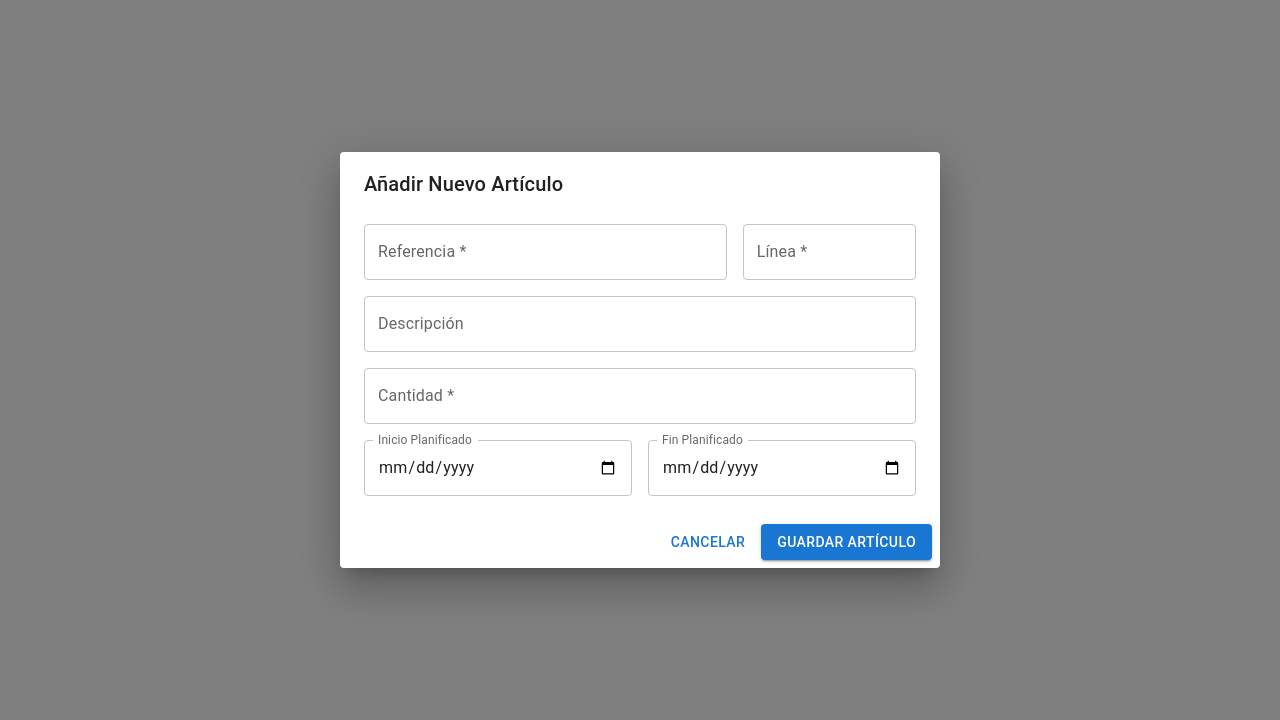
it: Componente: AdminAddArticuloDialog › Validación: error si linea inválida
Type "REF-001" into the field labelled "Referencia *" at (545, 252), box x1=364 y1=224 x2=727 y2=280
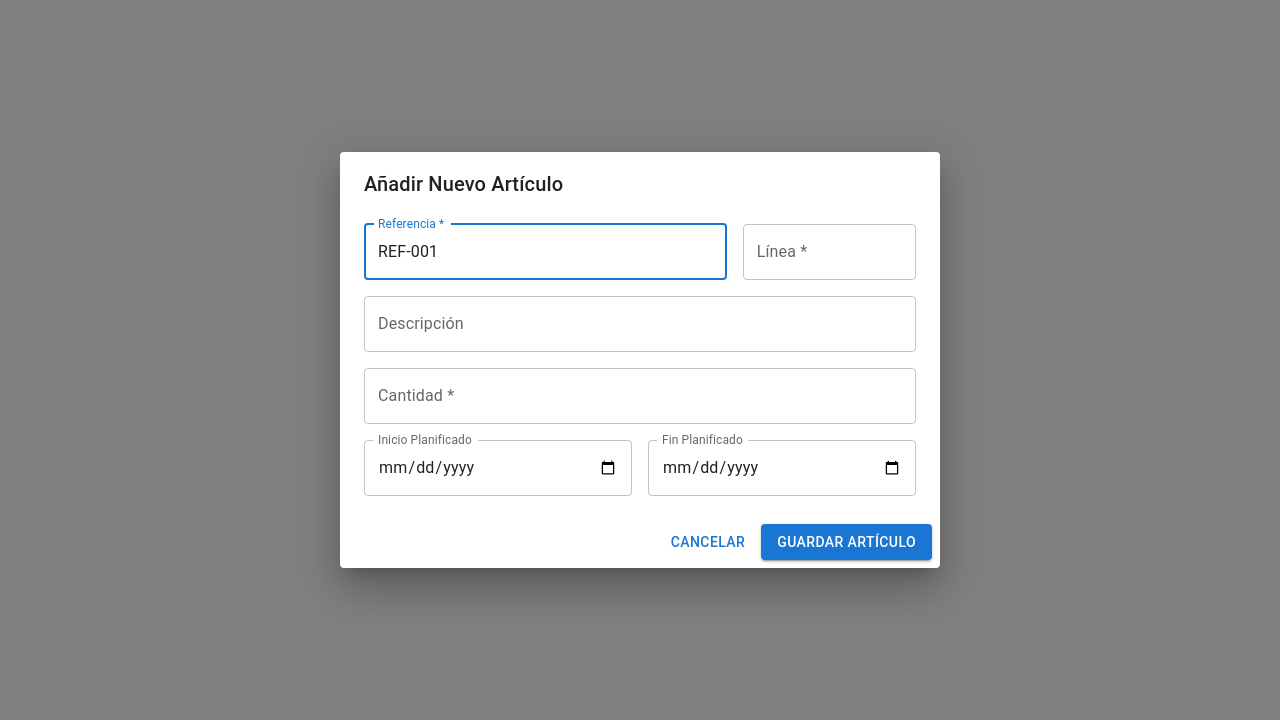
Type "0" into the field labelled "Línea *" at (829, 252), box x1=743 y1=224 x2=916 y2=280
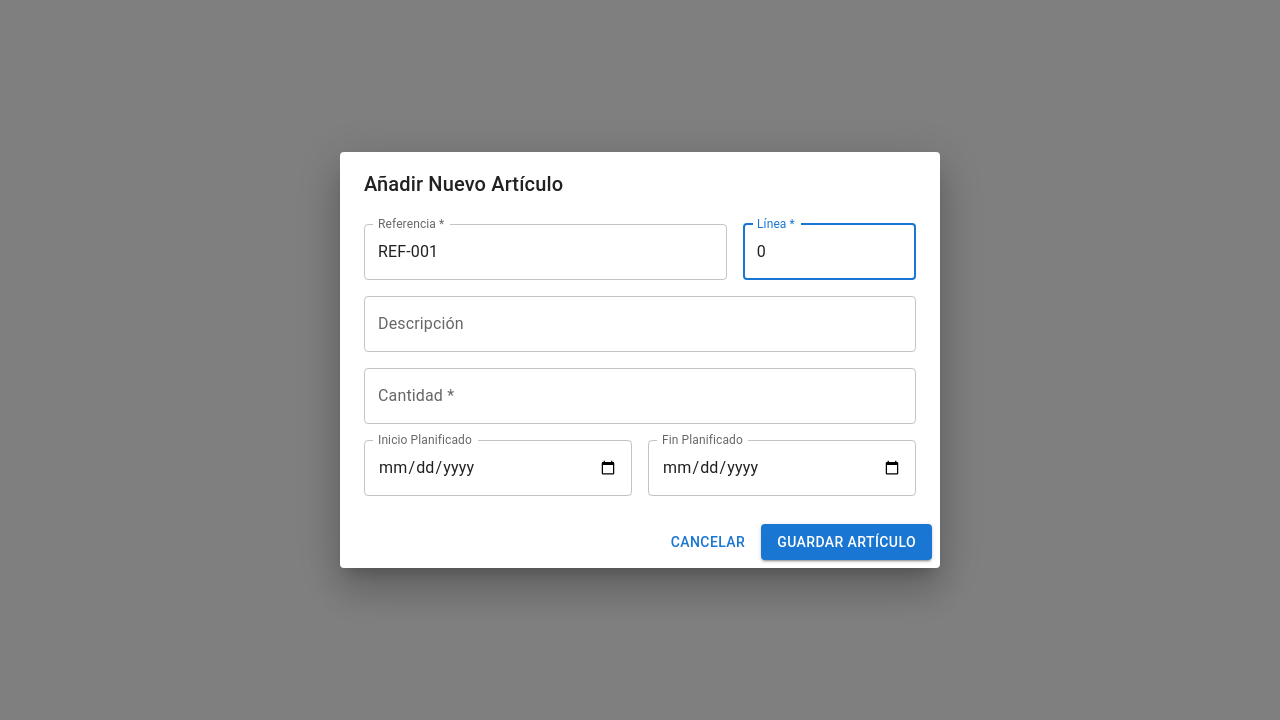
Press Tab
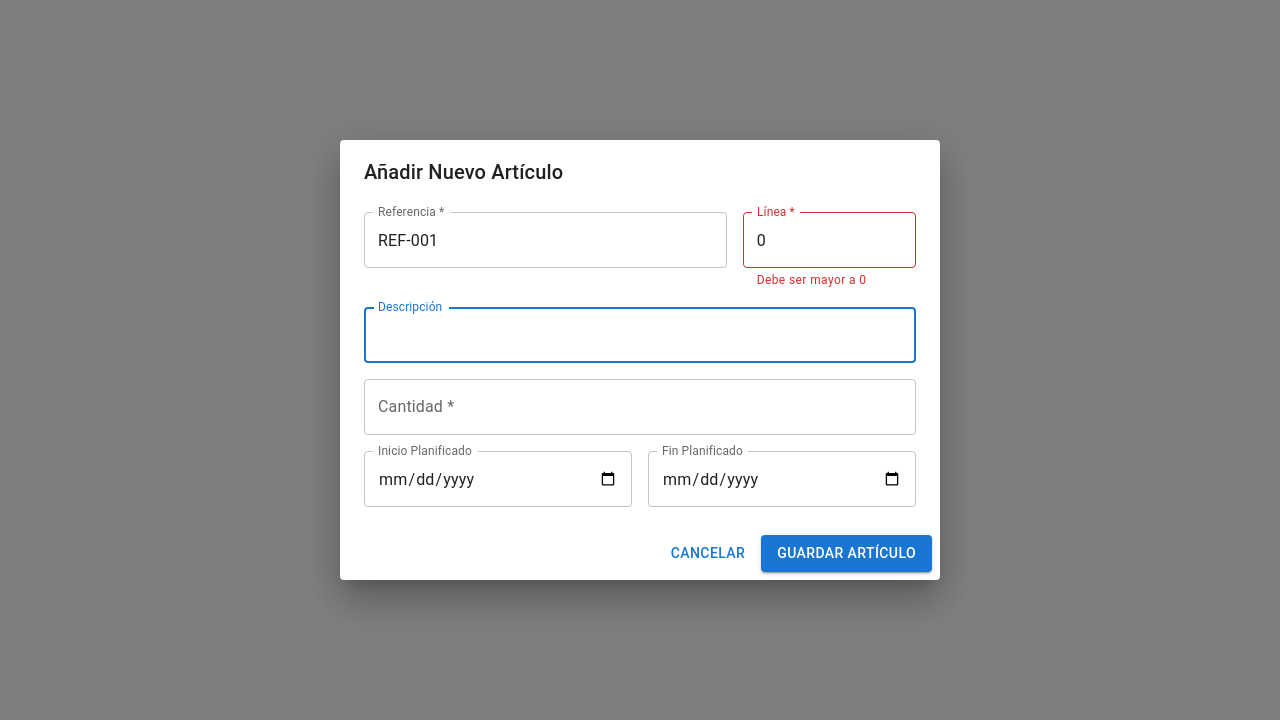
Check: the text "Debe ser mayor a 0" is shown, box x1=757 y1=273 x2=866 y2=287
